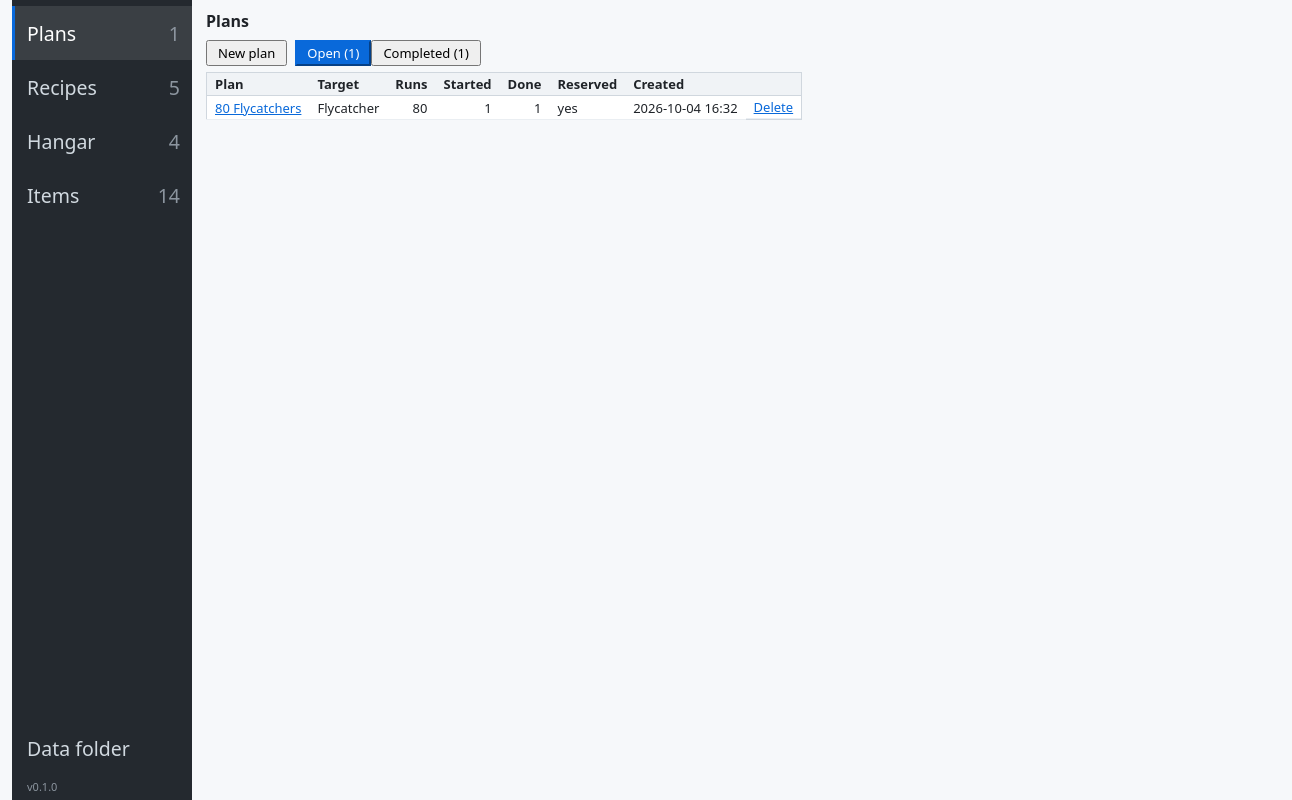
Test: HangarSection › refuses a correction that is not a whole number, in the row, keeping the input
The image size is (1292, 800).
Click the button "Hangar 4": (102, 141) [12, 114, 192, 168]
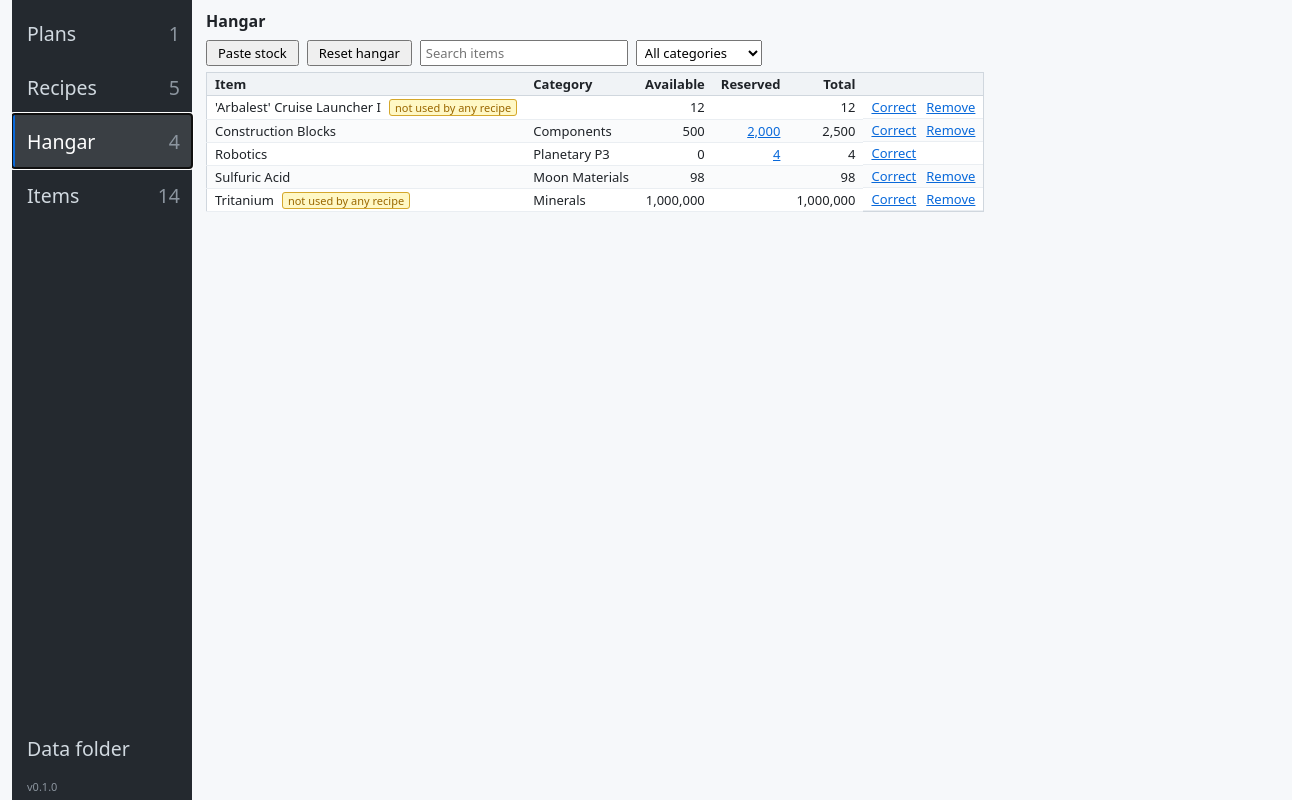
Click the button with aria-label "Correct Tritanium": (894, 199) [872, 190, 916, 208]
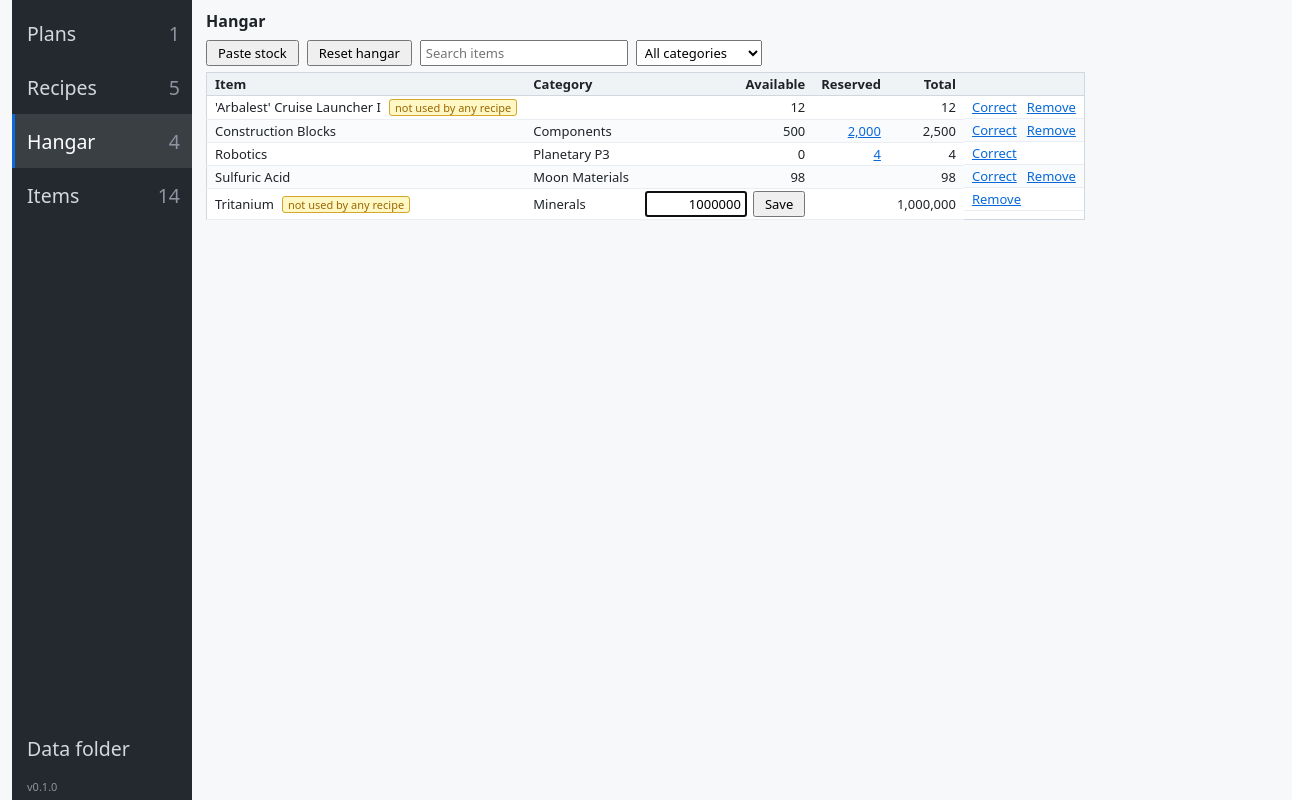
Replace the text in the field named "Available Tritanium" with "lots": (696, 204) [645, 190, 747, 216]
Then press Enter
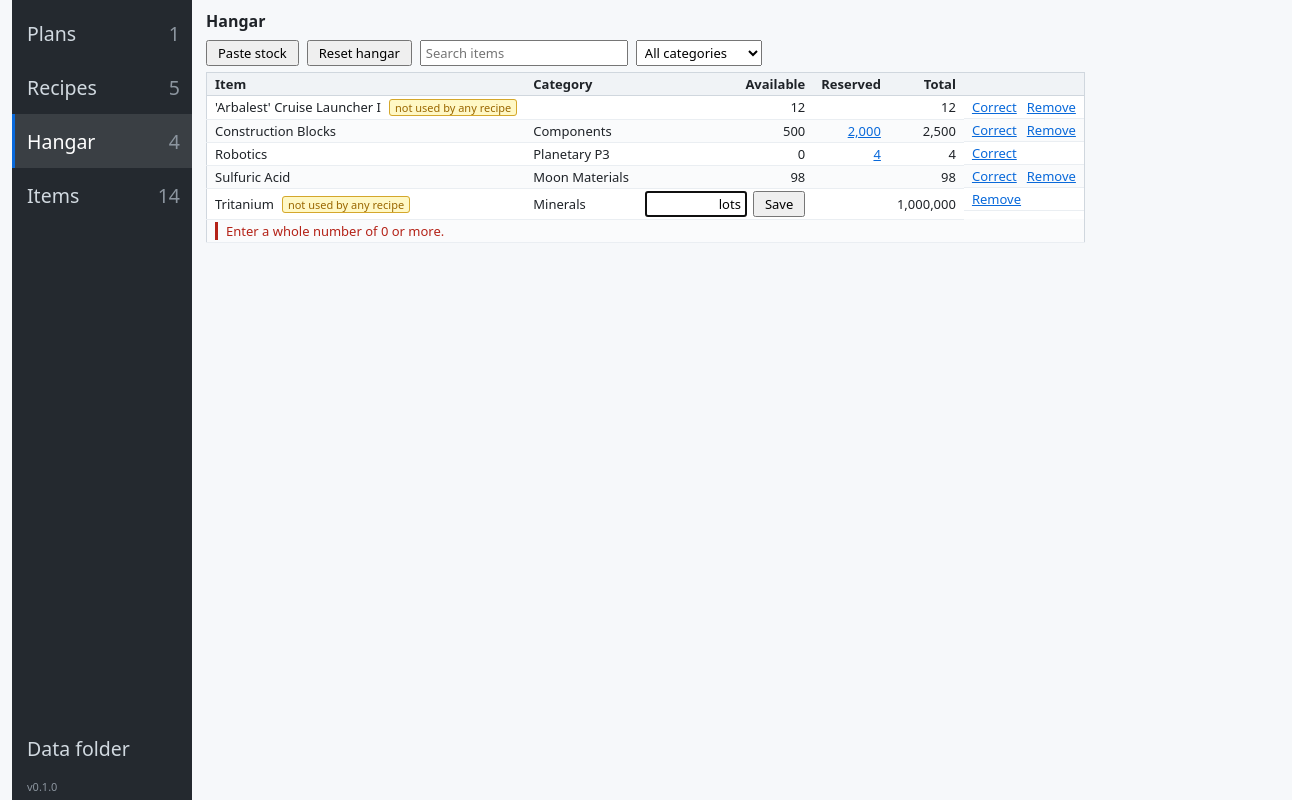
Now the message reads "Enter a whole number of 0 or more.", box [226, 222, 444, 240]
